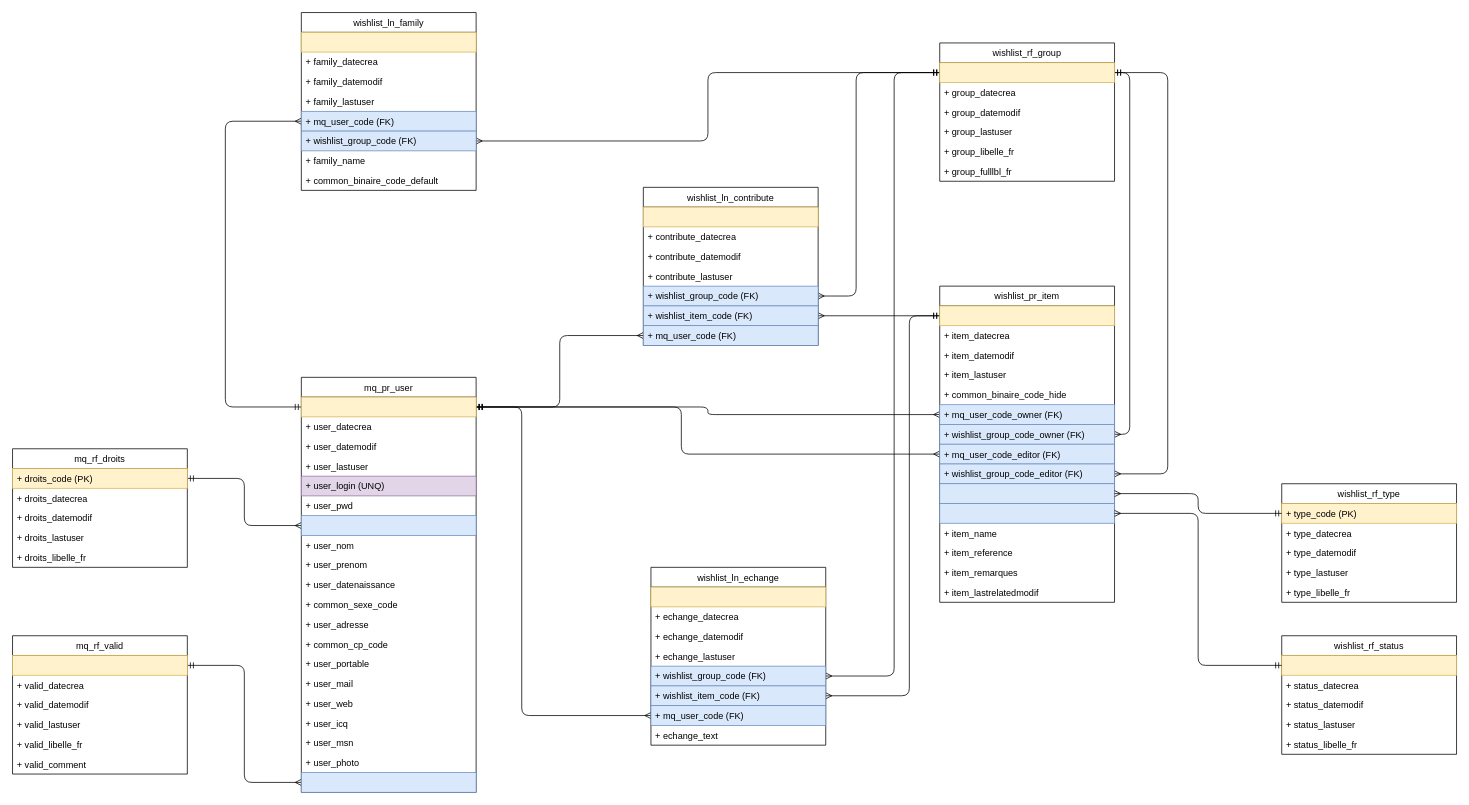
Some shapes in this 1469 by 805 pixel diagram are drawn without their labels. The centre of each missing label's shape, as x and y in pixels:
"+ contribute_code (PK)" goes at point 730,216.
"+ echange_code (PK)" goes at point 738,596.
"+ family_code (PK)" goes at point 388,42.
"+ group_code (PK)" goes at point 1027,72.
"+ item_code (PK)" goes at point 1027,315.
"+ mq_droits_code (FK)" goes at point 388,525.
"+ mq_valid_code (FK)" goes at point 388,782.
"+ status_code (PK)" goes at point 1369,665.
"+ user_code (PK)" goes at point 388,406.
"+ valid_code (PK)" goes at point 99,665.
"+ wishlist_status_code (FK)" goes at point 1027,513.
"+ wishlist_type_code (FK)" goes at point 1027,493.
